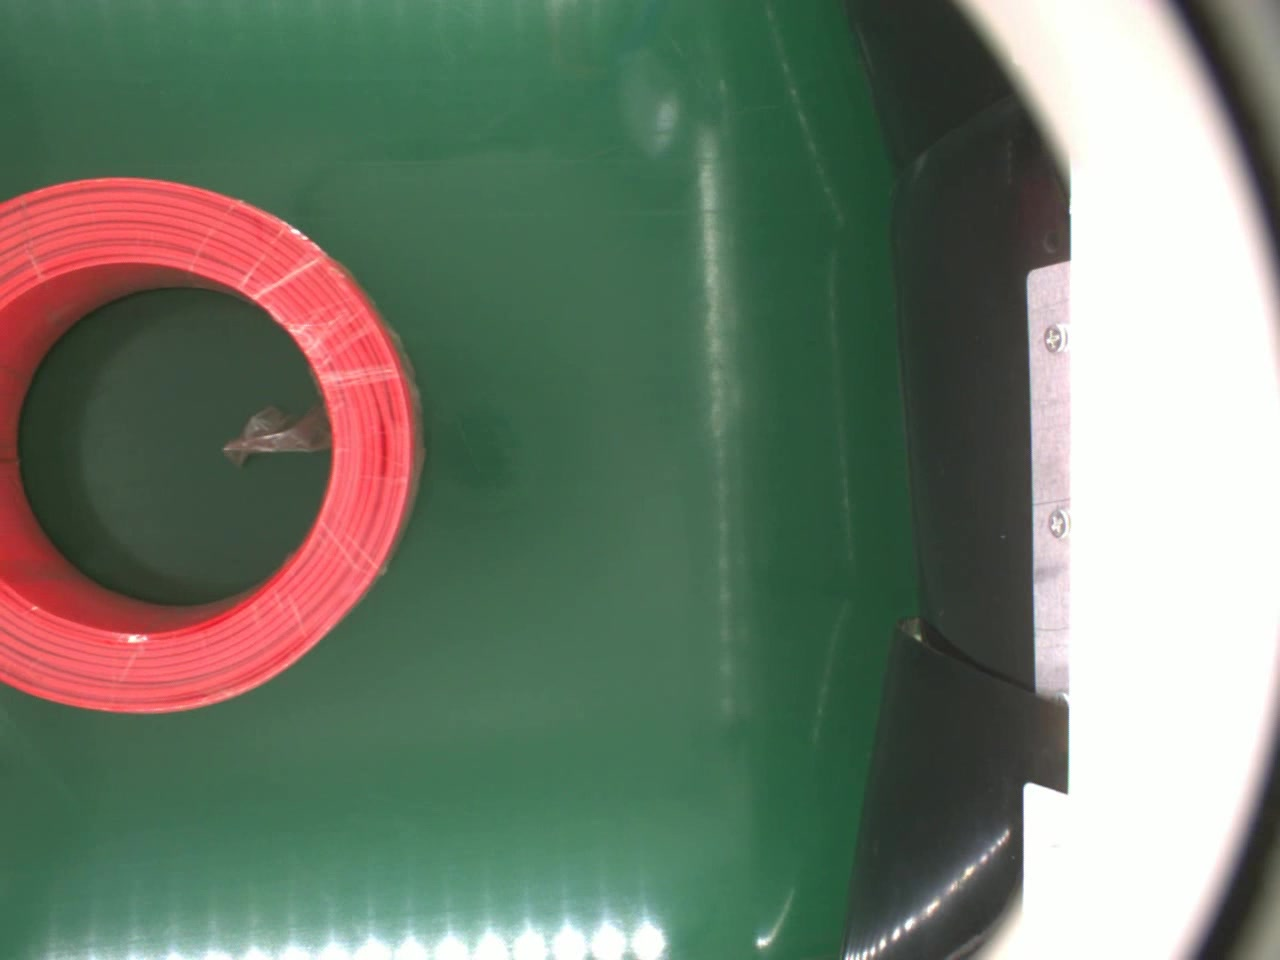red: (0, 172, 428, 710)
